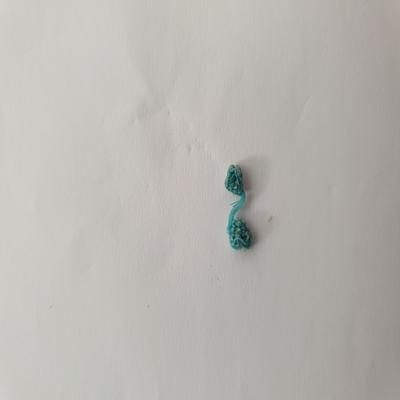plastic: (222, 162, 261, 255)
